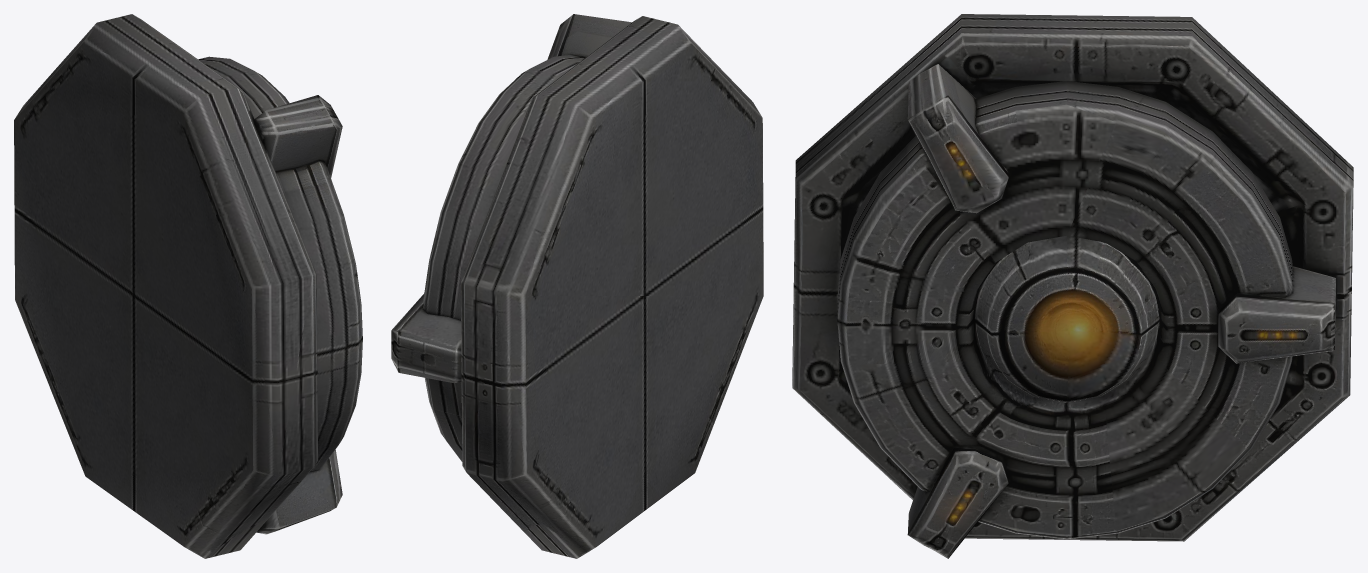
File: cold-iron-v2-electrical-terminal-c.glb
3 views of the same model, side by side, from view 1: azimuth 30°, elevation 25°; view 2: azimuth 150°, elevation 25°; view 3: azimuth 270°, elevation 25° (orthographic). The views are drawn at different scales.
Parts seen in each view (by area): view 1: tripo_node_241dd3f3-9ea9-4056-af07-c7400017b1a5; view 2: tripo_node_241dd3f3-9ea9-4056-af07-c7400017b1a5; view 3: tripo_node_241dd3f3-9ea9-4056-af07-c7400017b1a5.
Part boxes in pixels (x1,y1,x2,y2): tripo_node_241dd3f3-9ea9-4056-af07-c7400017b1a5: [14, 14, 362, 558]; tripo_node_241dd3f3-9ea9-4056-af07-c7400017b1a5: [391, 14, 763, 558]; tripo_node_241dd3f3-9ea9-4056-af07-c7400017b1a5: [792, 14, 1353, 558].
Bounding box in the file's own units: 0.3262 × 0.998 × 0.998.
1 material, 1 textured.
